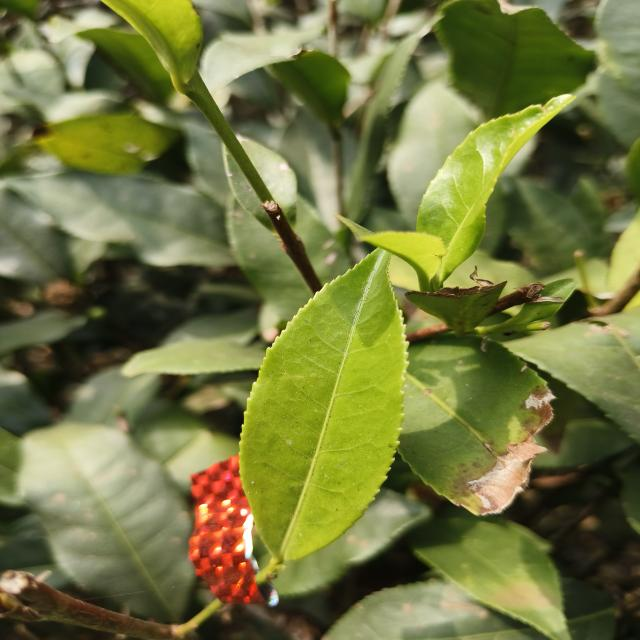Leaf: (240, 249, 407, 567), (19, 422, 195, 622), (416, 94, 574, 287), (399, 334, 554, 515), (5, 171, 234, 267), (409, 515, 570, 640), (435, 0, 594, 119), (505, 309, 640, 441), (274, 489, 431, 598), (323, 579, 549, 640), (387, 81, 478, 225), (226, 202, 311, 330), (39, 114, 188, 182), (507, 178, 603, 275), (200, 27, 320, 93), (337, 216, 446, 287), (77, 28, 174, 104), (0, 186, 71, 284), (595, 0, 640, 147), (272, 50, 350, 130), (122, 337, 265, 377), (66, 366, 160, 426), (241, 140, 298, 224), (297, 196, 351, 284), (0, 309, 86, 355), (0, 369, 52, 436), (565, 581, 615, 640), (225, 151, 258, 210)
